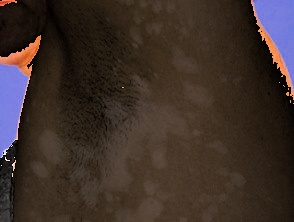vitiligo: (18, 0, 269, 222)
